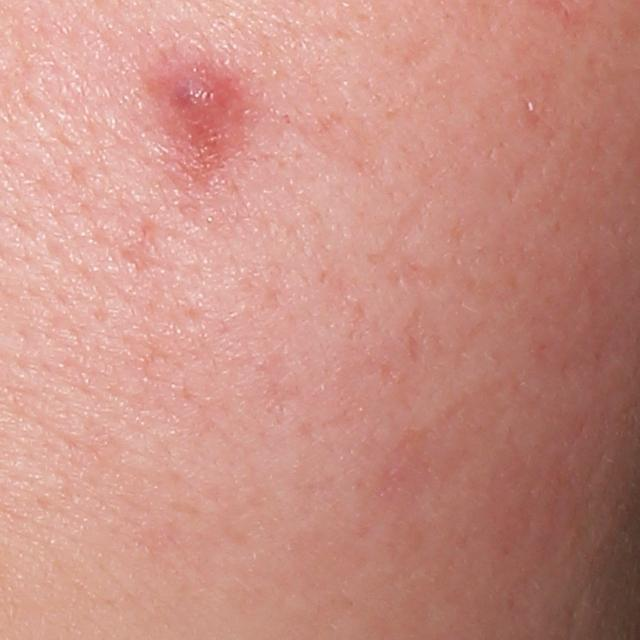papule: (162, 69, 232, 128)
